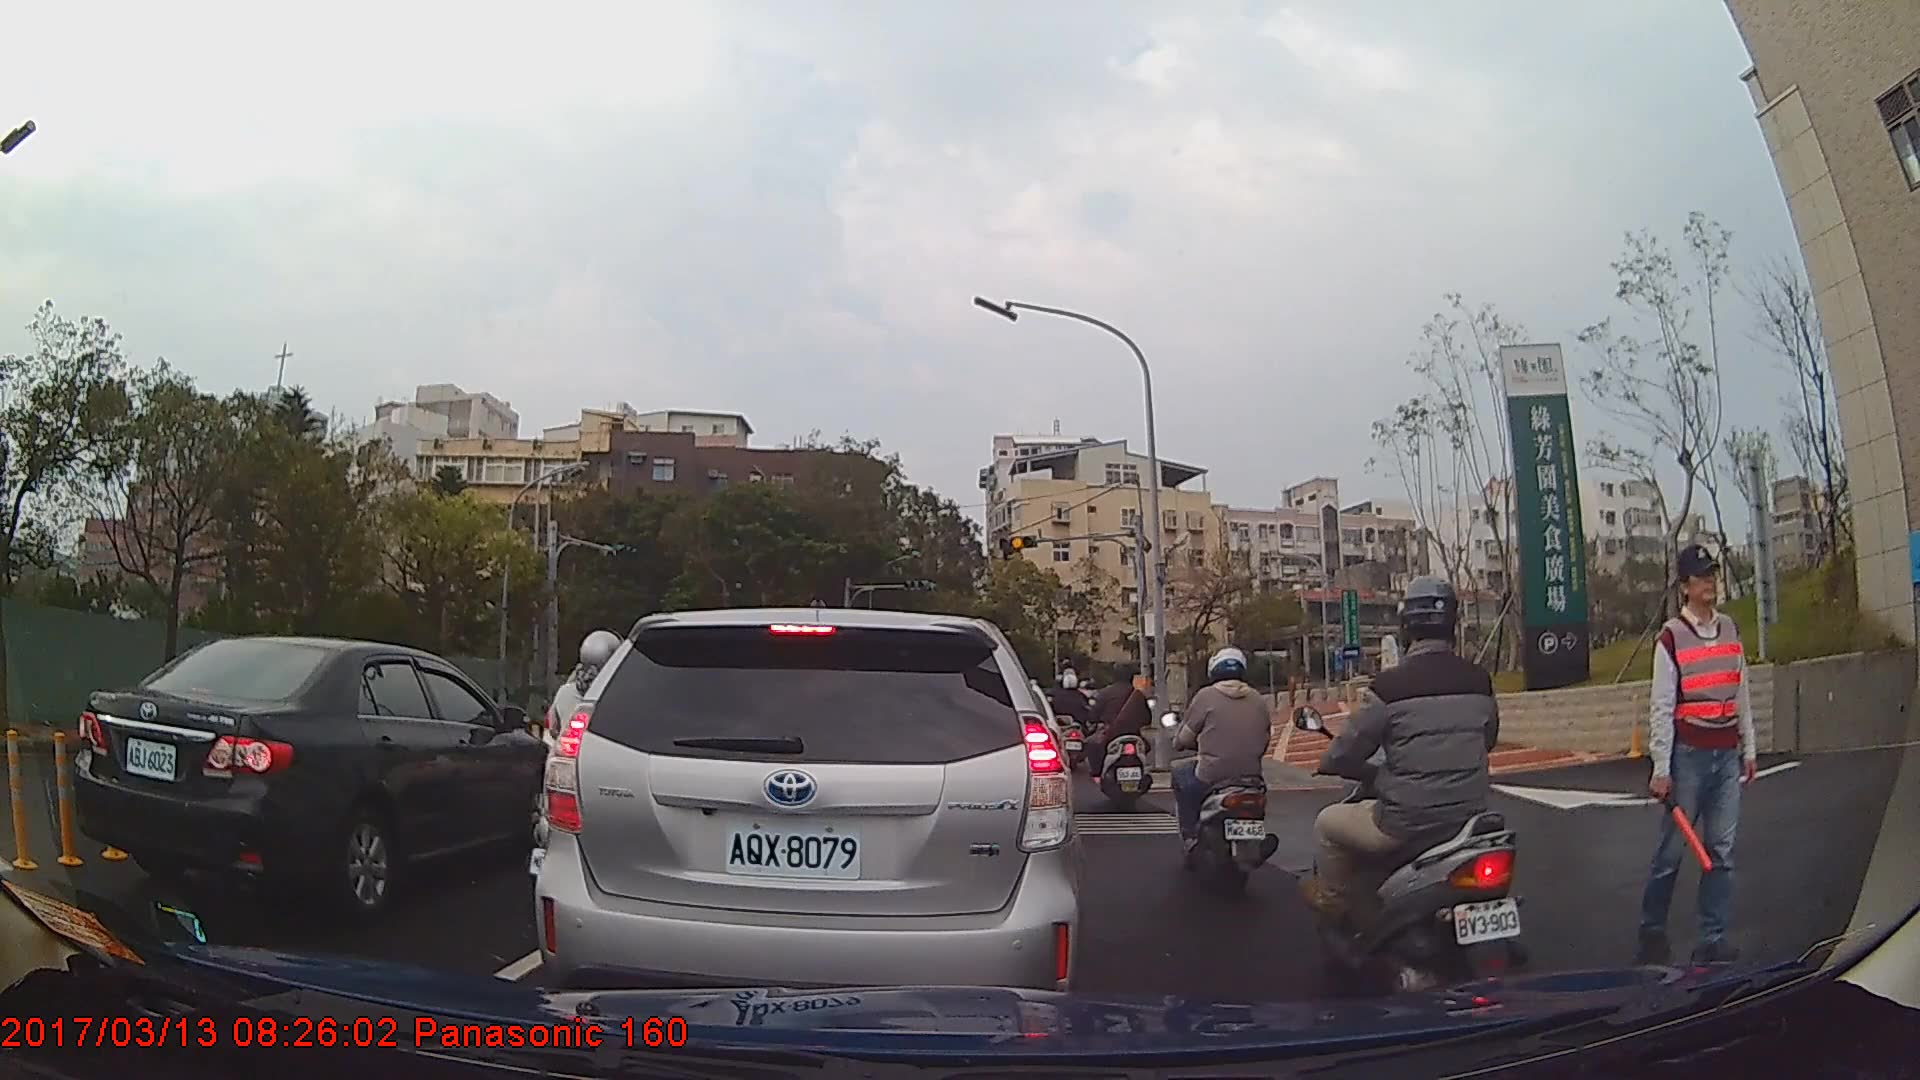pedestrian: (1627, 543, 1756, 963)
rider: (1315, 575, 1538, 999), (1178, 646, 1277, 893), (1085, 662, 1157, 812), (1057, 670, 1094, 776)
vehicle: (530, 608, 1087, 1015), (74, 634, 558, 919)
